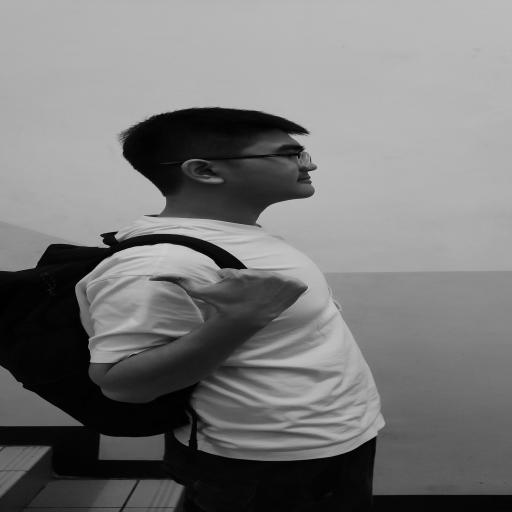back: (134, 261, 336, 327)
